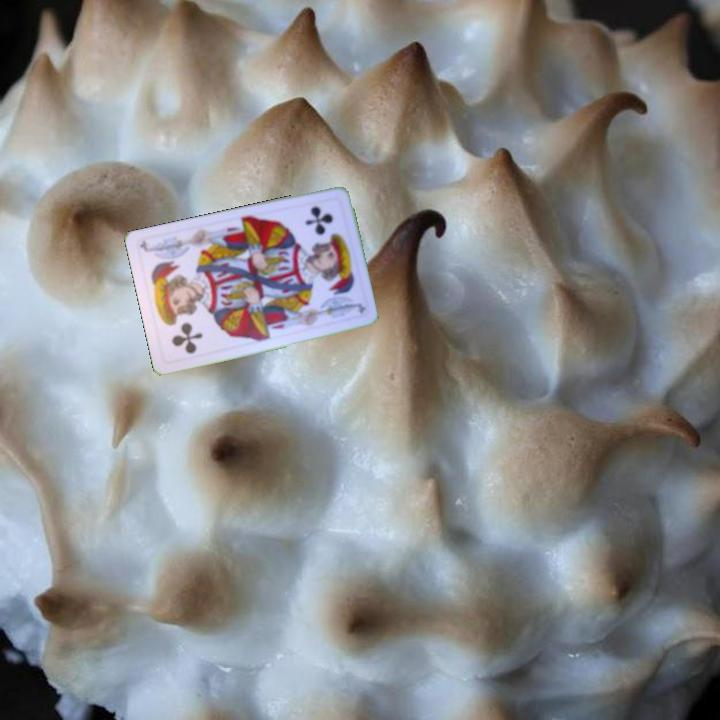c_j.png: (285, 194, 355, 271), (148, 287, 218, 364)
